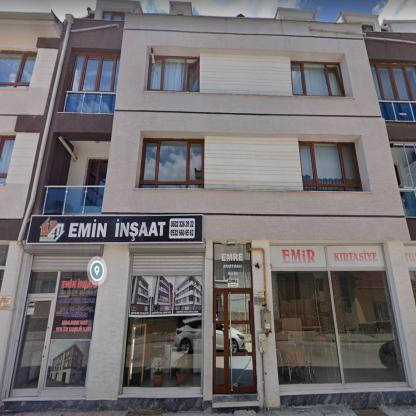door: (10, 295, 56, 395), (213, 291, 256, 394)
window: (270, 243, 412, 391), (28, 270, 96, 394), (122, 315, 201, 391), (299, 141, 362, 191), (139, 139, 204, 187), (68, 52, 120, 92), (148, 55, 199, 91), (291, 62, 344, 96), (370, 63, 416, 101), (214, 242, 251, 289), (0, 50, 37, 88), (390, 145, 414, 189), (1, 136, 15, 185), (86, 158, 108, 186), (404, 247, 416, 296), (102, 11, 124, 21)
